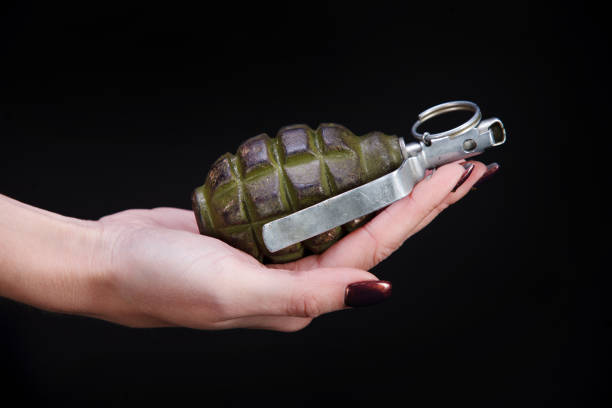e1: (192, 91, 506, 257)
